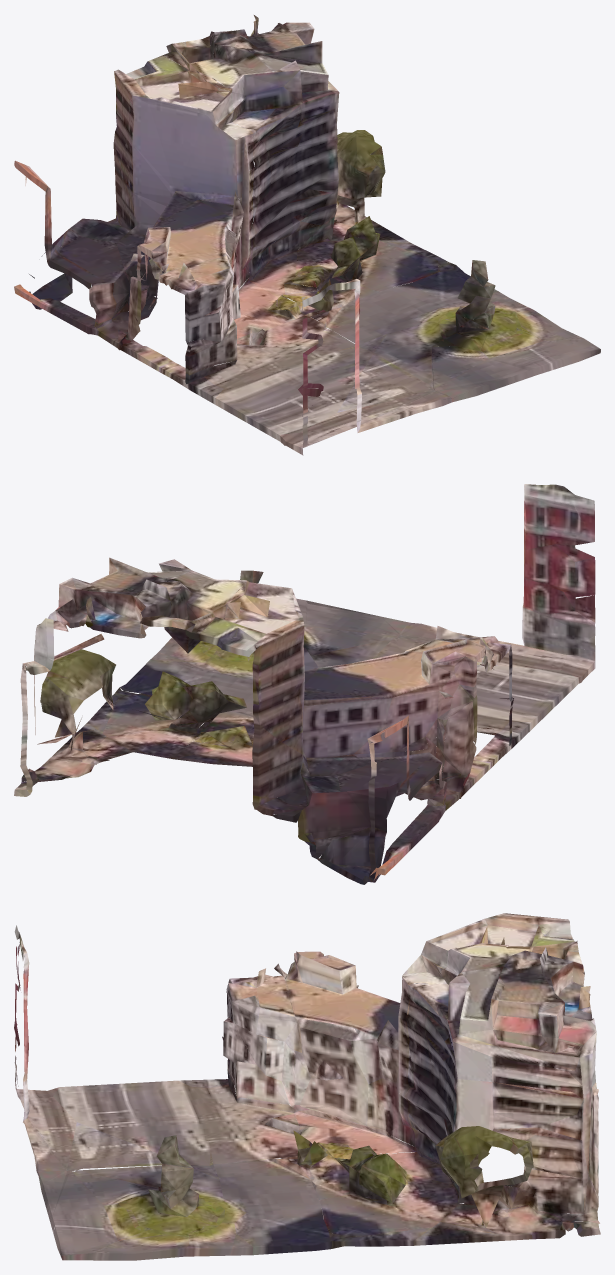
3 renders of one model, top to bottom at view 1: azimuth 30°, elevation 25°; view 2: azimuth 150°, elevation 25°; view 3: azimuth 270°, elevation 25°, orthographic. The views are drawn at different scales.
Visible parts, largest first — view 1: Mesh_0; view 2: Mesh_0; view 3: Mesh_0.
Boxes of the visible parts, box(x1,y1,x2,y2) form: Mesh_0: box(14, 15, 600, 455); Mesh_0: box(14, 484, 595, 884); Mesh_0: box(14, 913, 600, 1260).
Bounding box in the file's own units: 66.58 × 39.57 × 82.8.
2 materials, 2 textured.
